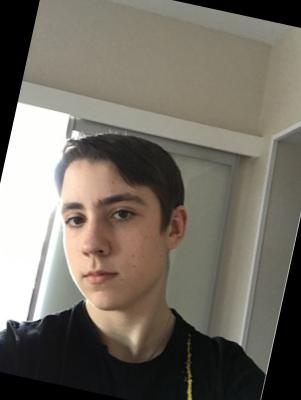without_mask: (39, 175, 161, 319)
